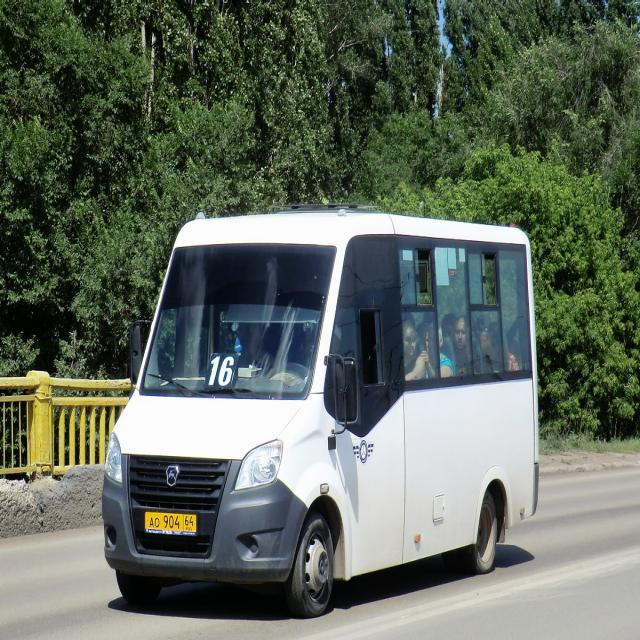number-of-bus: (209, 354, 237, 389)
